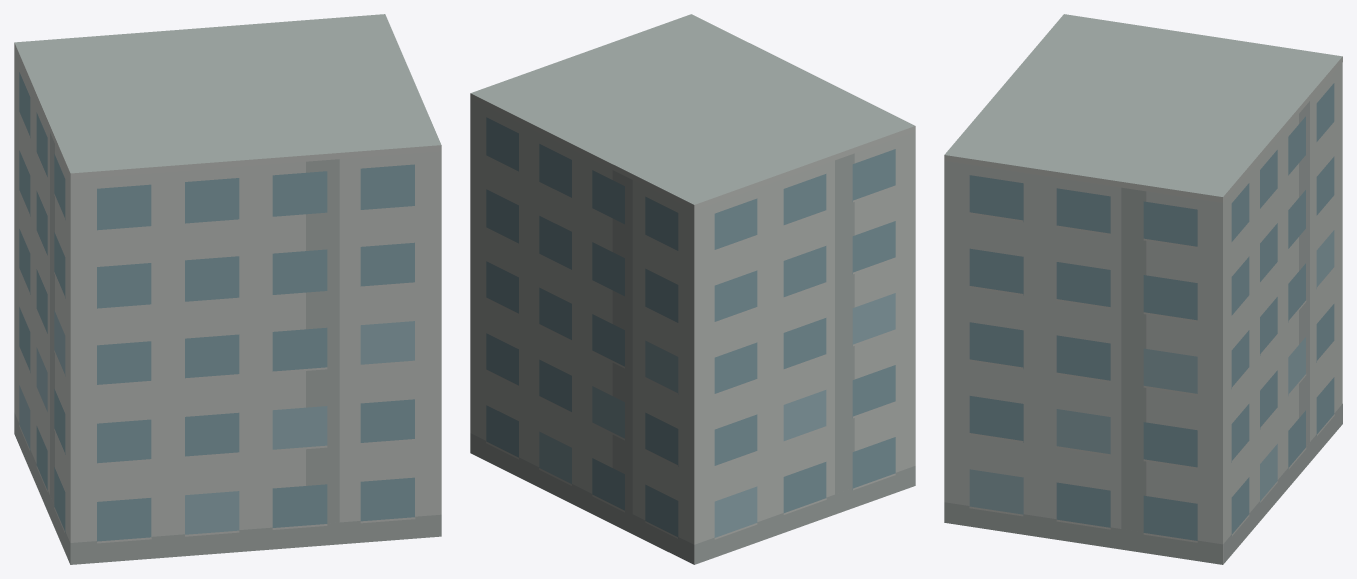
Rendered from residential-94935354-746a-4415-900d-c9ed8a407cb9.glb.
3 renders of one model, left to right at view 1: azimuth 30°, elevation 25°; view 2: azimuth 150°, elevation 25°; view 3: azimuth 270°, elevation 25°, orthographic. The views are drawn at different scales.
Parts seen in each view (by area): view 1: residential-94935354-746a-4415-900d-c9ed8a407cb9.tmp; view 2: residential-94935354-746a-4415-900d-c9ed8a407cb9.tmp; view 3: residential-94935354-746a-4415-900d-c9ed8a407cb9.tmp.
Part boxes in pixels (x1,y1,x2,y2): residential-94935354-746a-4415-900d-c9ed8a407cb9.tmp: (14, 14, 441, 564); residential-94935354-746a-4415-900d-c9ed8a407cb9.tmp: (470, 14, 915, 564); residential-94935354-746a-4415-900d-c9ed8a407cb9.tmp: (944, 14, 1342, 564).
Bounding box in the file's own units: 16.3 × 15.25 × 14.98.
